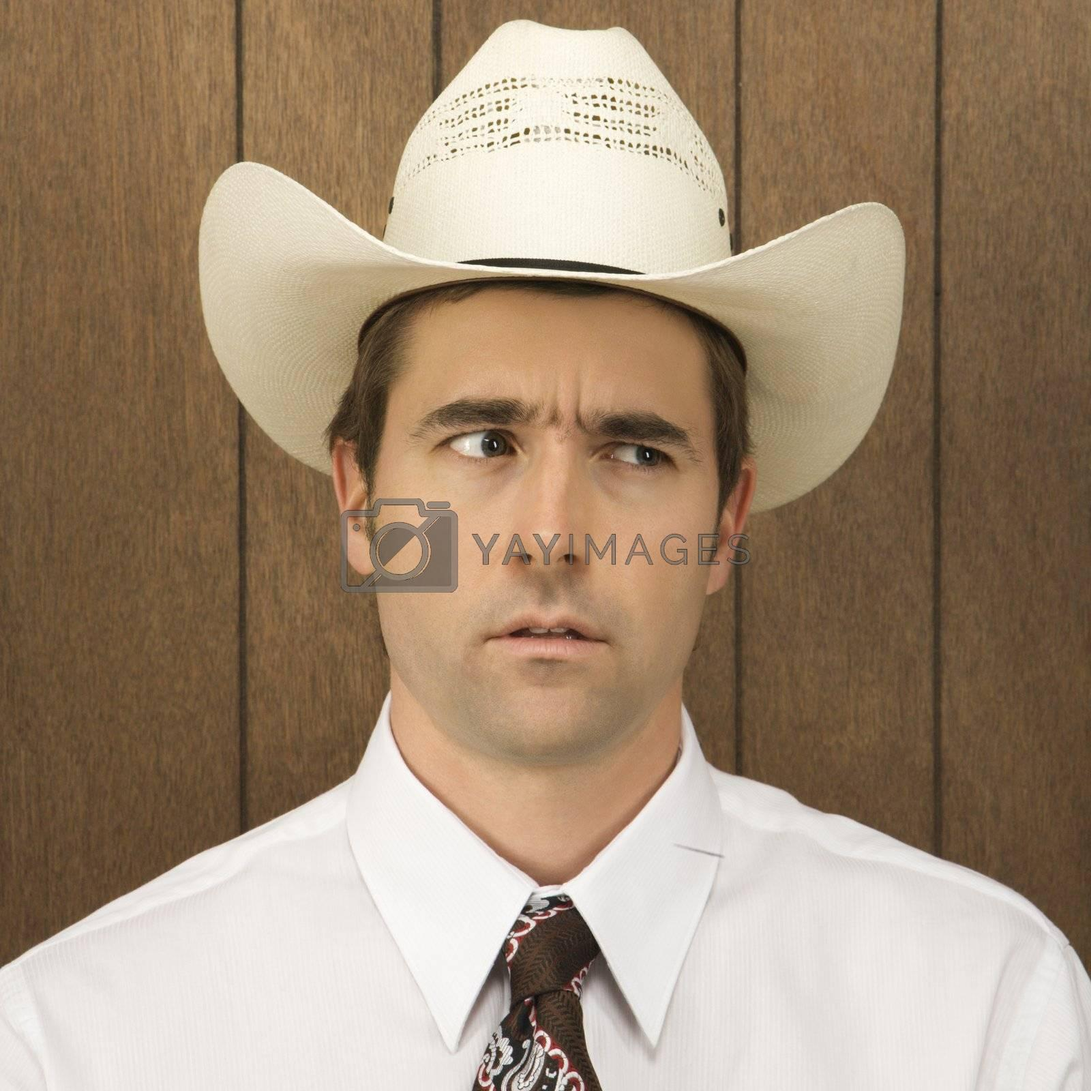cap: (160, 10, 968, 501)
